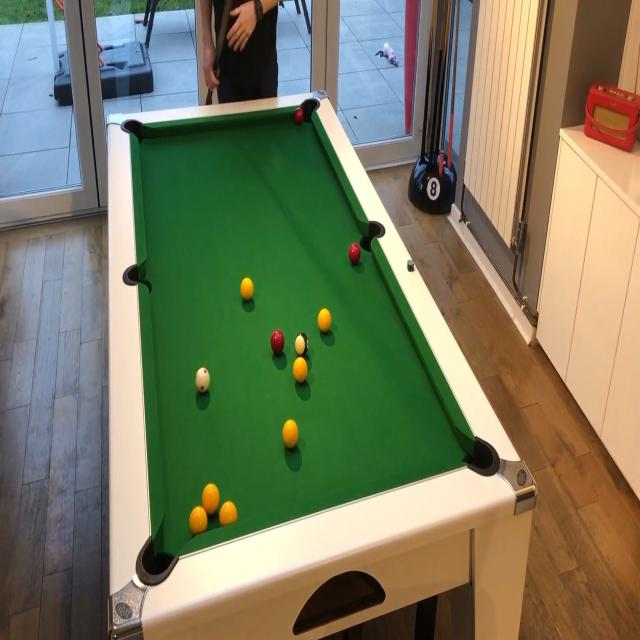Ball: (202, 483, 218, 515), (189, 507, 206, 536), (282, 419, 298, 449), (220, 501, 236, 525), (293, 358, 308, 383), (195, 368, 210, 392), (271, 330, 285, 354), (295, 332, 309, 356), (318, 309, 331, 333), (349, 242, 361, 266), (240, 278, 253, 300), (295, 108, 303, 125)
Billiard table: (107, 89, 537, 640)
